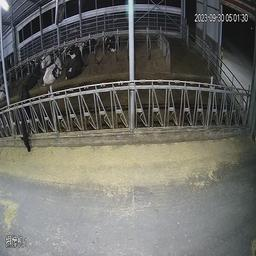cow: (15, 84, 37, 161), (65, 41, 85, 86), (43, 53, 63, 88), (99, 29, 121, 60), (24, 63, 43, 91), (84, 31, 98, 57)
